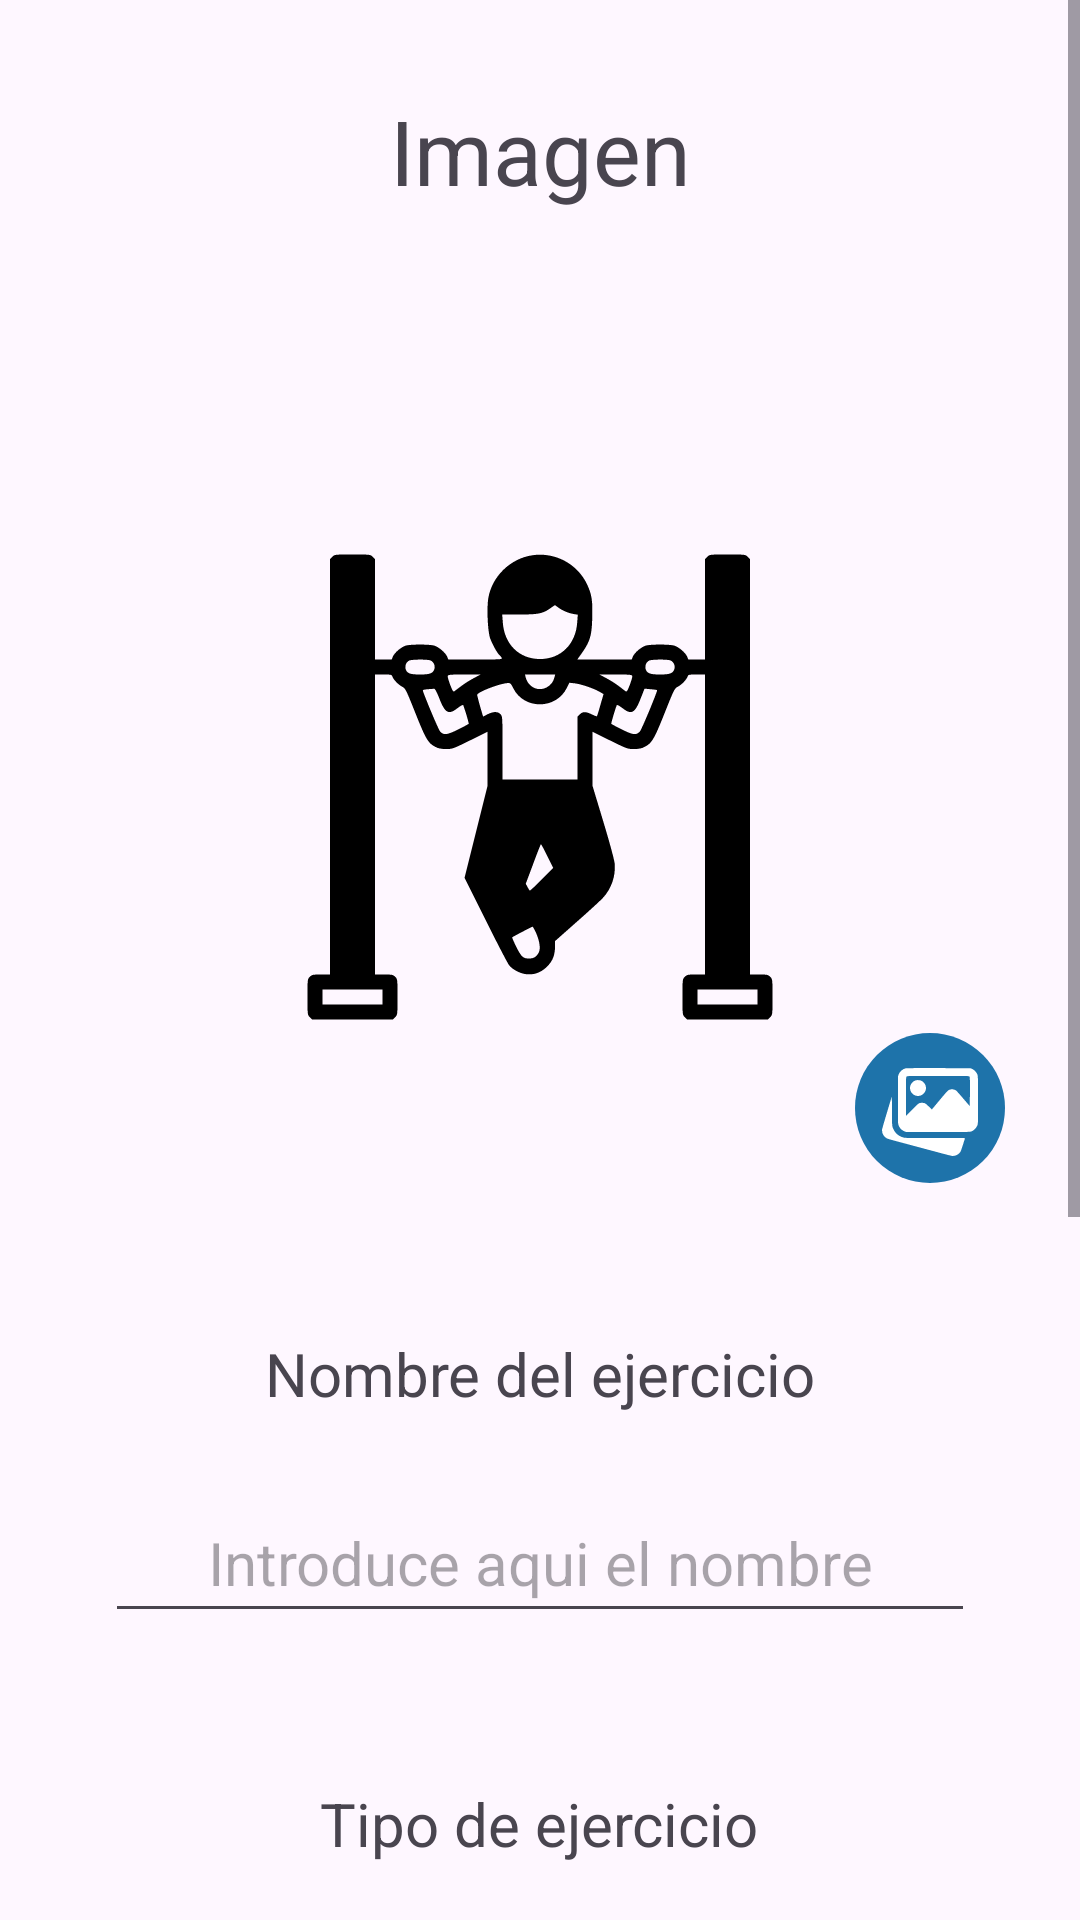

Icon bounding boxes for this 1080x1920 phone screenshot, format (x1, y1, x2, y2):
galeria: (855, 1033, 1005, 1183)
